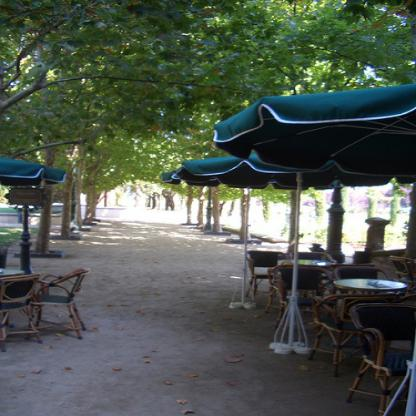chair: (347, 300, 415, 412), (310, 291, 390, 380), (26, 265, 96, 342), (265, 260, 328, 328), (0, 271, 48, 348), (240, 247, 282, 304), (330, 262, 390, 287), (388, 253, 415, 282), (288, 248, 335, 264)
diningtable: (330, 274, 413, 300)
